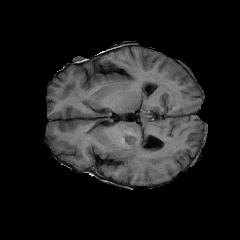glioma: (124, 134, 173, 169)
